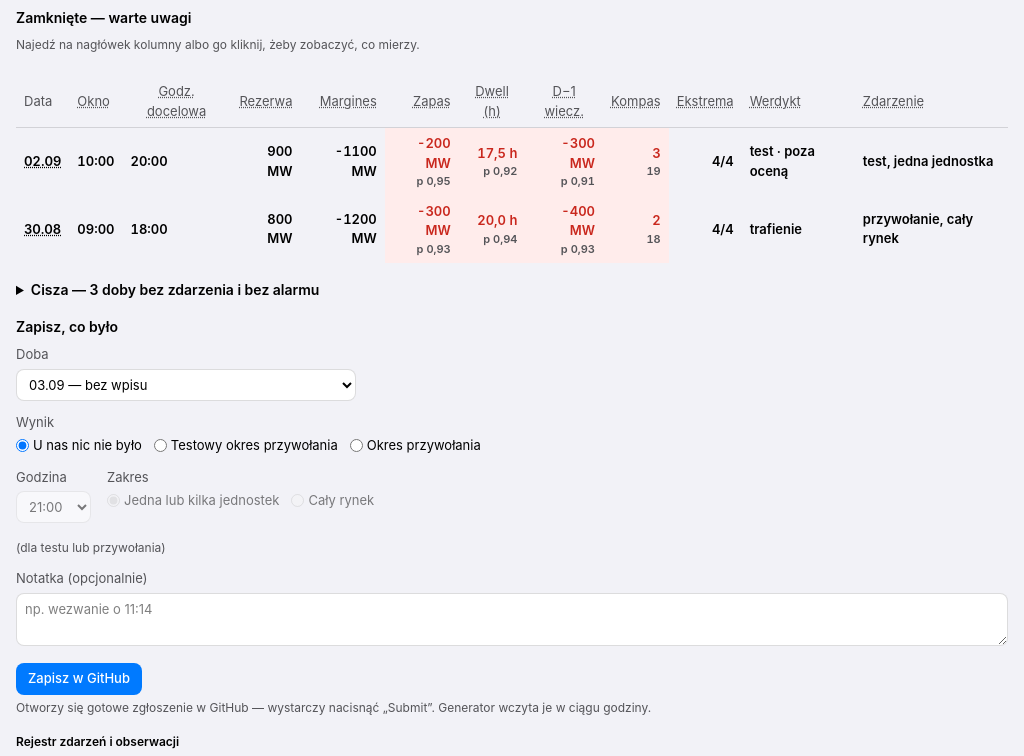
Scenario: Badanie › "Zapisz, co było" › defaults the hour to the day's own target hour when it falls in 7-21, else 19
(page scrolled)
Expected: the dropdown labelled "Godzina" shows "21:00", [16,491,91,523]
Select "02.09 — zapisane: 20:00 test, jedna jednostka" in the dropdown labelled "Doba": (186, 384) [16,368,356,400]
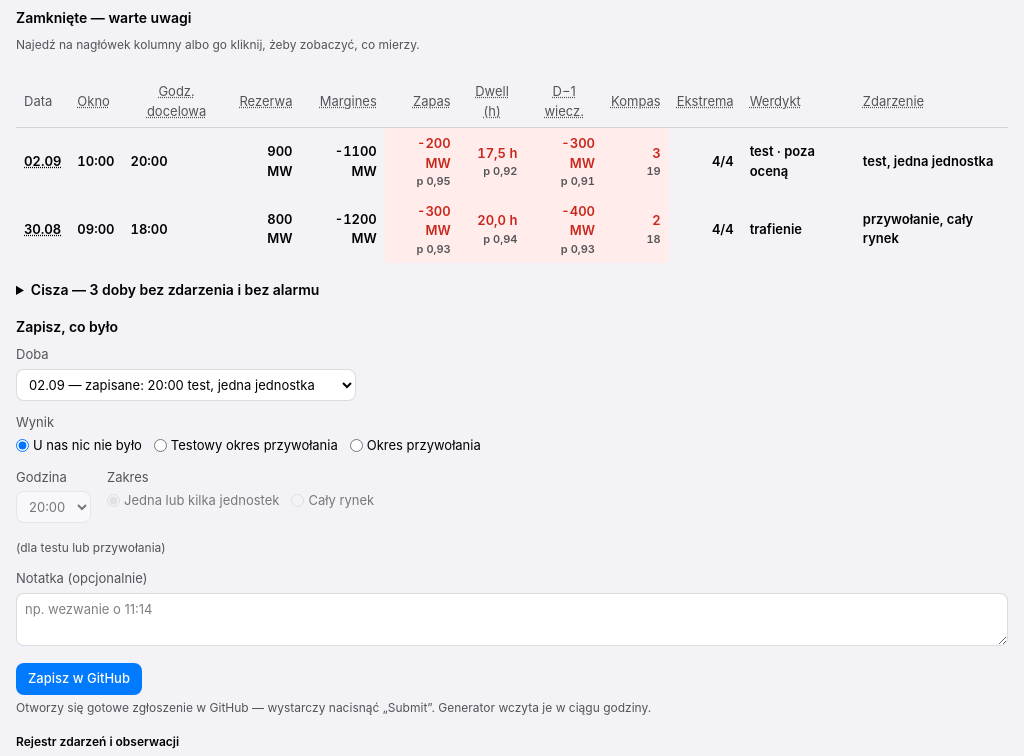
Now the dropdown labelled "Godzina" shows "20:00", box [16,491,91,523]
